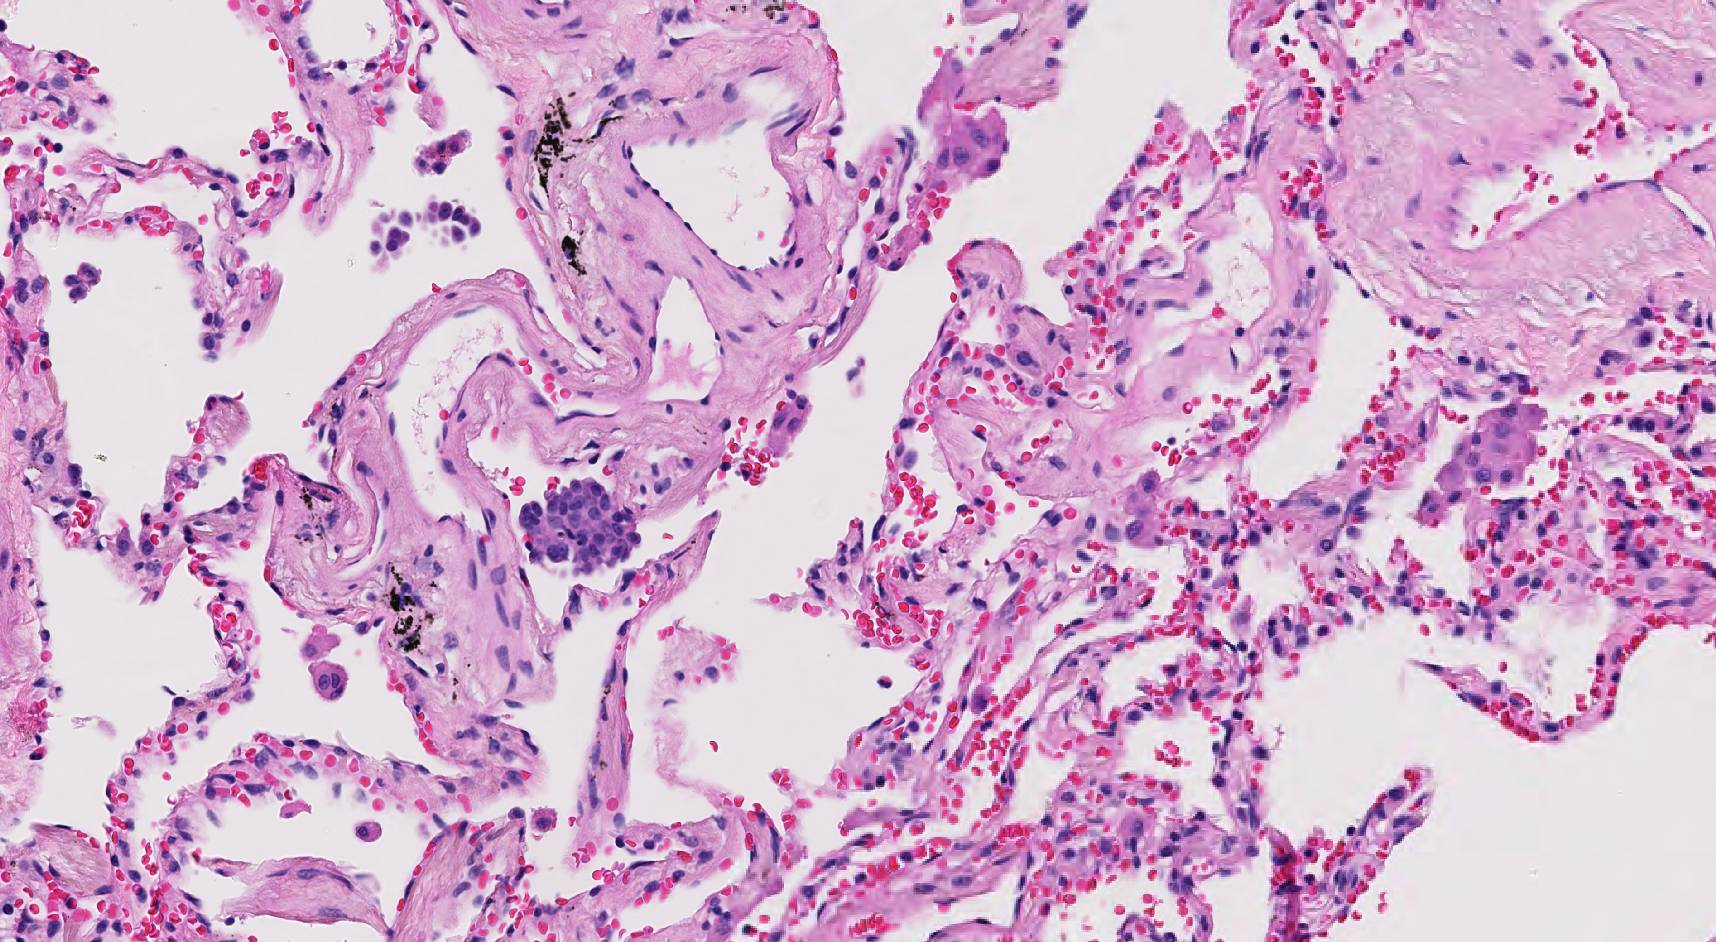stas: (517, 476, 649, 574)
